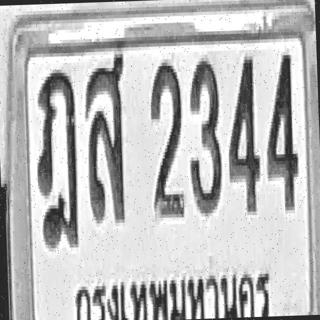A14: (33, 67, 80, 247)
A40: (83, 49, 129, 222)
N02: (148, 57, 185, 216)
N03: (186, 56, 222, 215)
N04: (224, 53, 261, 212), (262, 50, 299, 209)
